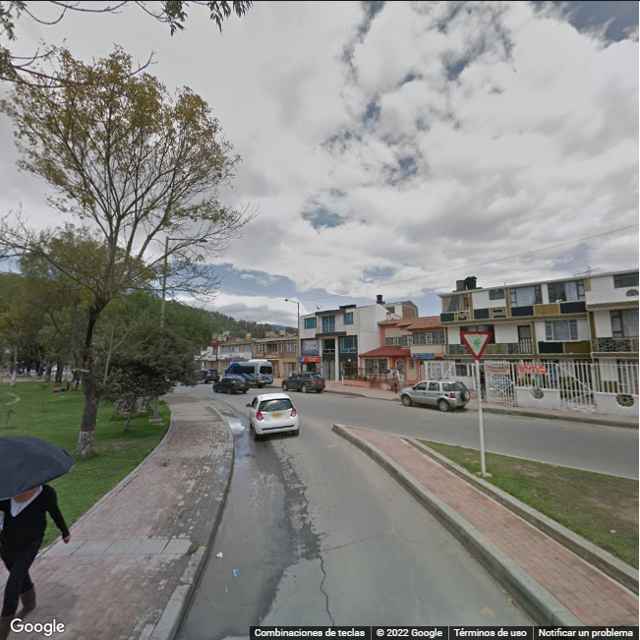D00: (315, 547, 338, 632)
D10: (320, 538, 362, 550)
